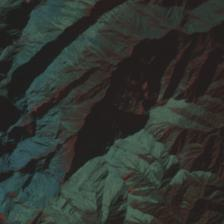landslides: (121, 24, 143, 40), (103, 31, 137, 40), (43, 174, 55, 195), (109, 49, 123, 61)
